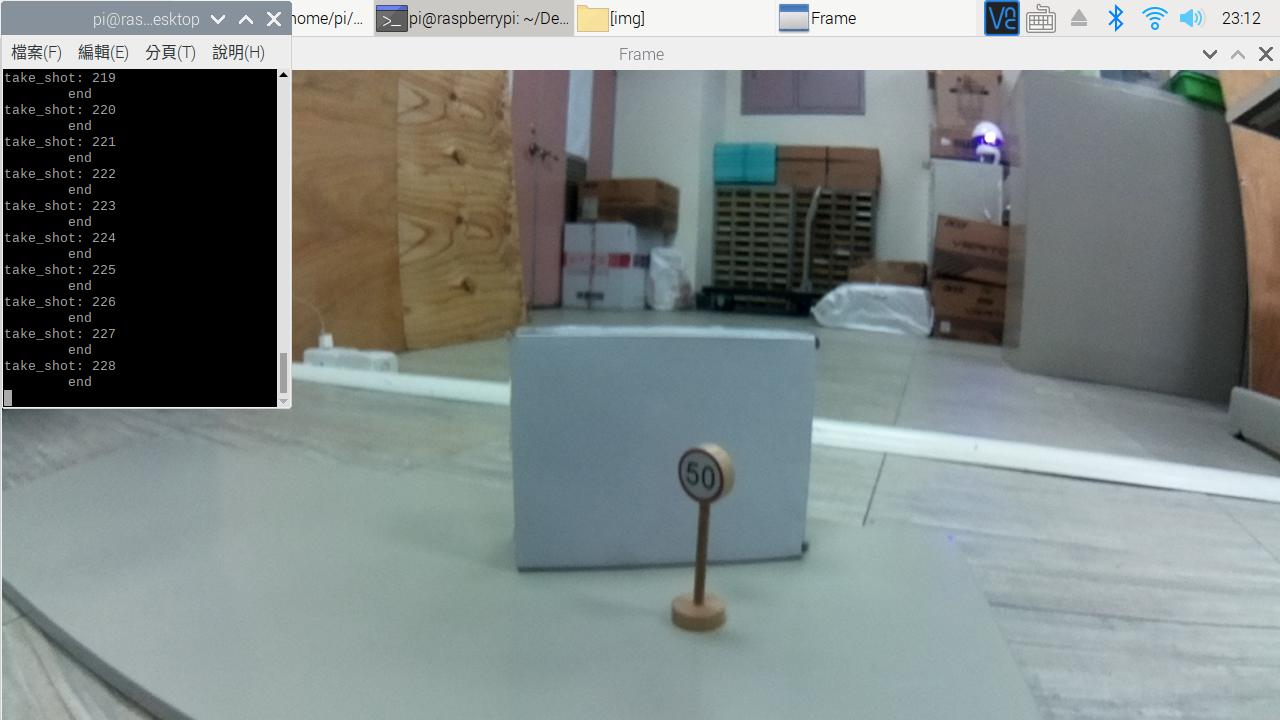Speed50: (664, 430, 750, 547)
